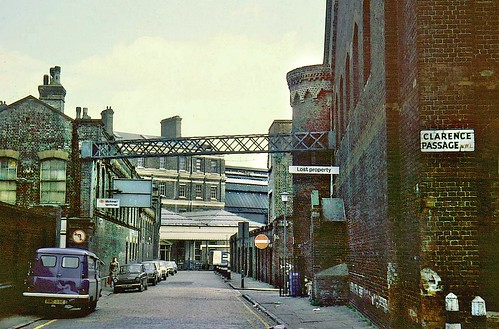building: (288, 1, 499, 303), (4, 98, 154, 275), (134, 131, 271, 273)
car: (22, 245, 100, 317), (118, 260, 147, 298), (135, 260, 159, 286)
sign: (411, 124, 477, 152), (248, 229, 275, 257), (69, 224, 90, 248)
sky: (3, 1, 335, 95)
